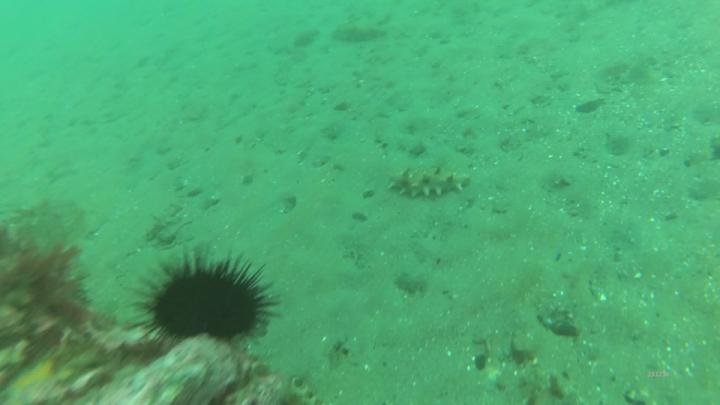echinus: (122, 250, 287, 348)
holothurian: (387, 162, 470, 203)
waterweeds: (1, 228, 95, 330)
